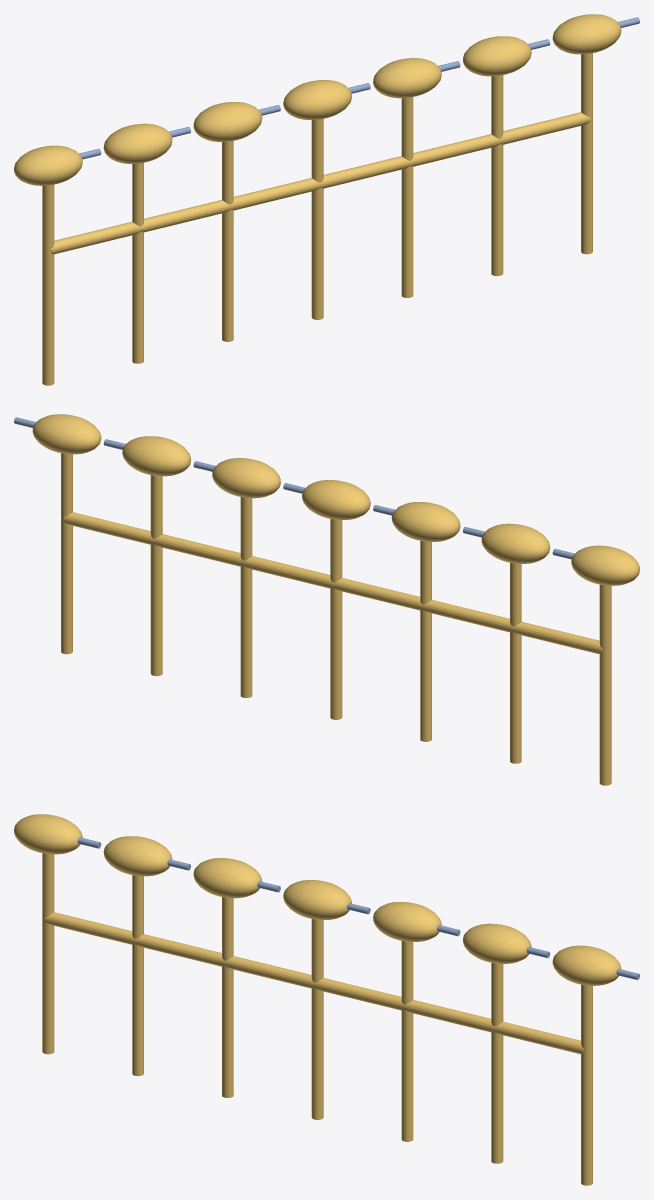
The model's file is candelabro.glb.
The picture shows the model from 3 angles, top to bottom: view 1: azimuth 30°, elevation 25°; view 2: azimuth 150°, elevation 25°; view 3: azimuth 330°, elevation 25°; orthographic projection.
Visible parts, largest first — view 1: Travessa esquemática, Pedestal, Pedestal.003, Pedestal.005, Pedestal.004, Pedestal.006, Pedestal.001, Pedestal.002, Reservatório.006, Reservatório, Reservatório.005, Reservatório.004 (+3 smaller); view 2: Travessa esquemática, Pedestal, Pedestal.003, Pedestal.005, Pedestal.004, Pedestal.006, Pedestal.001, Pedestal.002, Reservatório.006, Reservatório, Reservatório.005, Reservatório.004 (+3 smaller); view 3: Travessa esquemática, Pedestal, Pedestal.004, Pedestal.003, Pedestal.005, Pedestal.006, Pedestal.001, Pedestal.002, Reservatório.006, Reservatório.001, Reservatório, Reservatório.002 (+3 smaller).
Boxes of the visible parts, <box> form: Travessa esquemática: <box>51,112,590,254</box>; Pedestal: <box>42,184,54,385</box>; Pedestal.003: <box>311,119,323,319</box>; Pedestal.005: <box>491,75,503,276</box>; Pedestal.004: <box>401,97,413,297</box>; Pedestal.006: <box>581,53,592,254</box>; Pedestal.001: <box>132,162,143,363</box>; Pedestal.002: <box>222,141,233,341</box>; Reservatório.006: <box>552,14,621,54</box>; Reservatório: <box>14,145,82,185</box>; Reservatório.005: <box>463,36,531,76</box>; Reservatório.004: <box>373,58,441,98</box>; Travessa esquemática: <box>63,512,602,654</box>; Pedestal: <box>599,584,611,785</box>; Pedestal.003: <box>330,519,342,719</box>; Pedestal.005: <box>150,475,162,676</box>; Pedestal.004: <box>240,497,252,697</box>; Pedestal.006: <box>61,453,72,654</box>; Pedestal.001: <box>510,562,521,763</box>; Pedestal.002: <box>420,541,431,741</box>; Reservatório.006: <box>32,414,101,454</box>; Reservatório: <box>571,545,639,585</box>; Reservatório.005: <box>122,436,190,476</box>; Reservatório.004: <box>212,458,280,498</box>; Travessa esquemática: <box>45,912,583,1054</box>; Pedestal: <box>42,853,54,1054</box>; Pedestal.004: <box>401,941,413,1141</box>; Pedestal.003: <box>311,919,323,1119</box>; Pedestal.005: <box>491,962,503,1163</box>; Pedestal.006: <box>581,984,592,1185</box>; Pedestal.001: <box>132,875,143,1076</box>; Pedestal.002: <box>222,897,233,1097</box>; Reservatório.006: <box>552,945,621,985</box>; Reservatório.001: <box>103,836,172,876</box>; Reservatório: <box>14,814,82,854</box>; Reservatório.002: <box>193,858,262,898</box>.
Bounding box in the file's own units: 4.85 × 1.74 × 0.35.
Materials: 2 (1 with a texture image).
